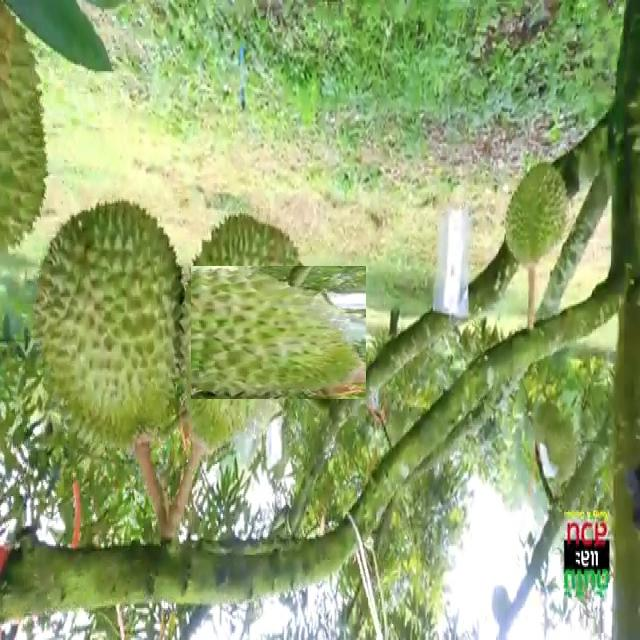durian: (28, 197, 190, 451), (148, 238, 338, 427), (502, 160, 572, 268)
